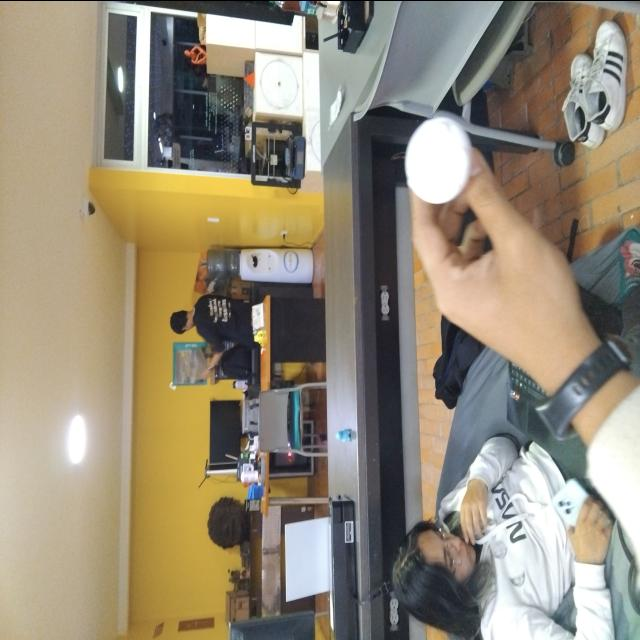Hongo: (397, 104, 472, 218)
